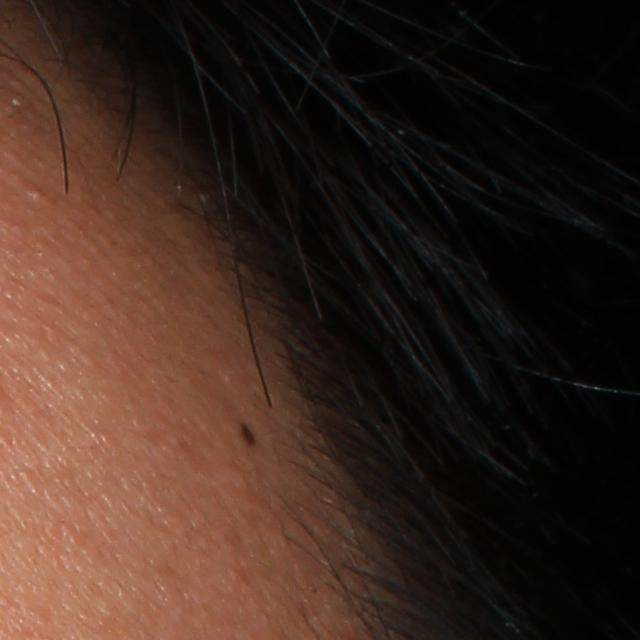nevus: (235, 420, 258, 447)
